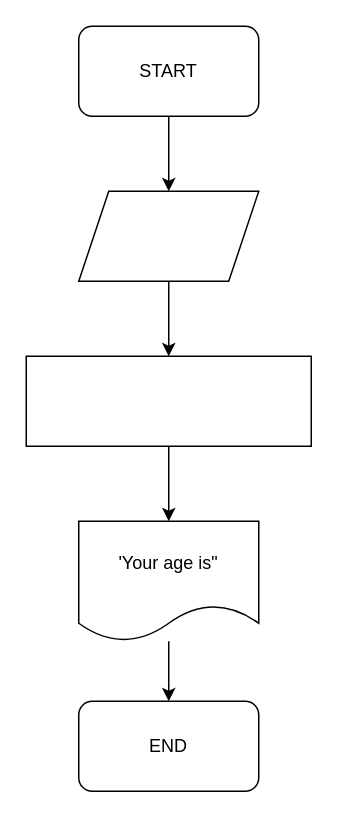
This 338x818 diagram has some shape labels left out. The centre of each missing label's shape, as x and y in pixels:
"Birth date=x Current year Current age" belongs at [168,235].
"Current age=current year-birthdate" belongs at [168,400].
